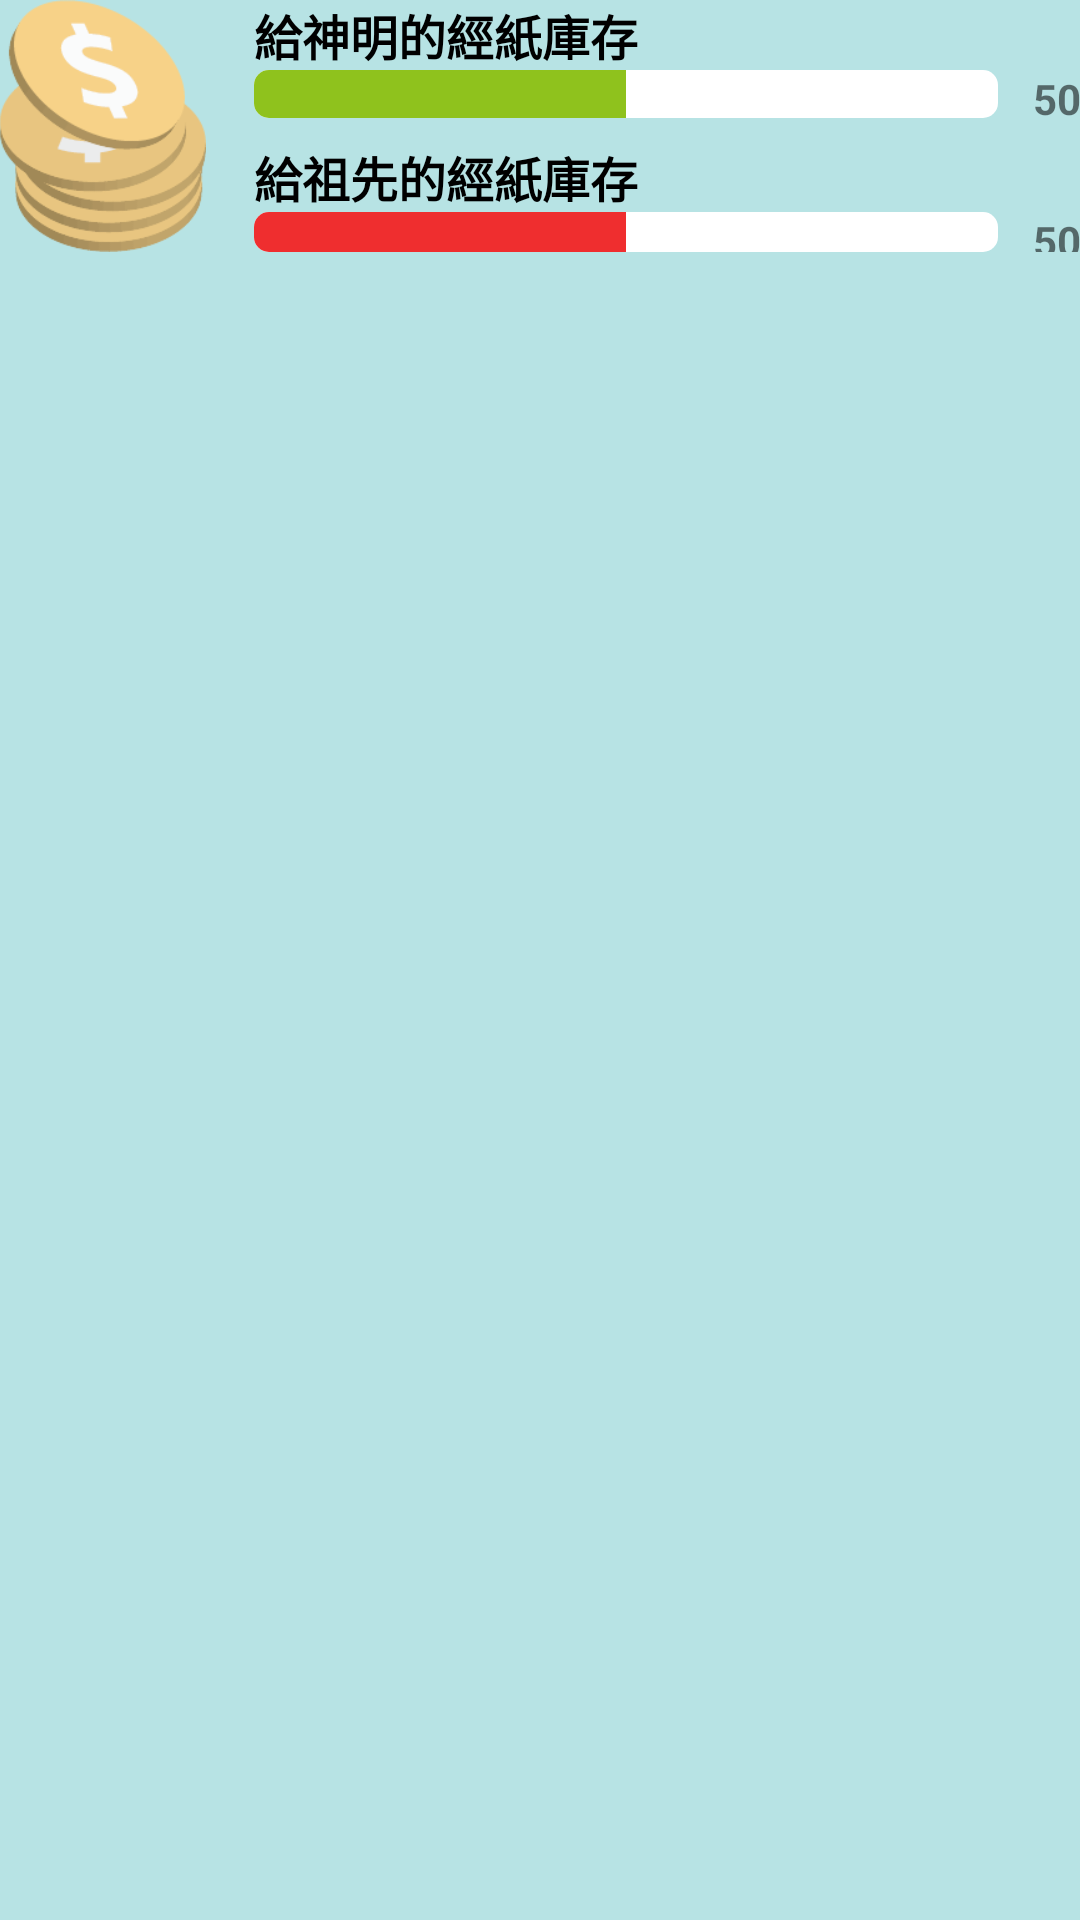

Point at icon controls on the screen. Image size 1080×1920, points as (x=x, y=y).
coins: (x=103, y=126)
